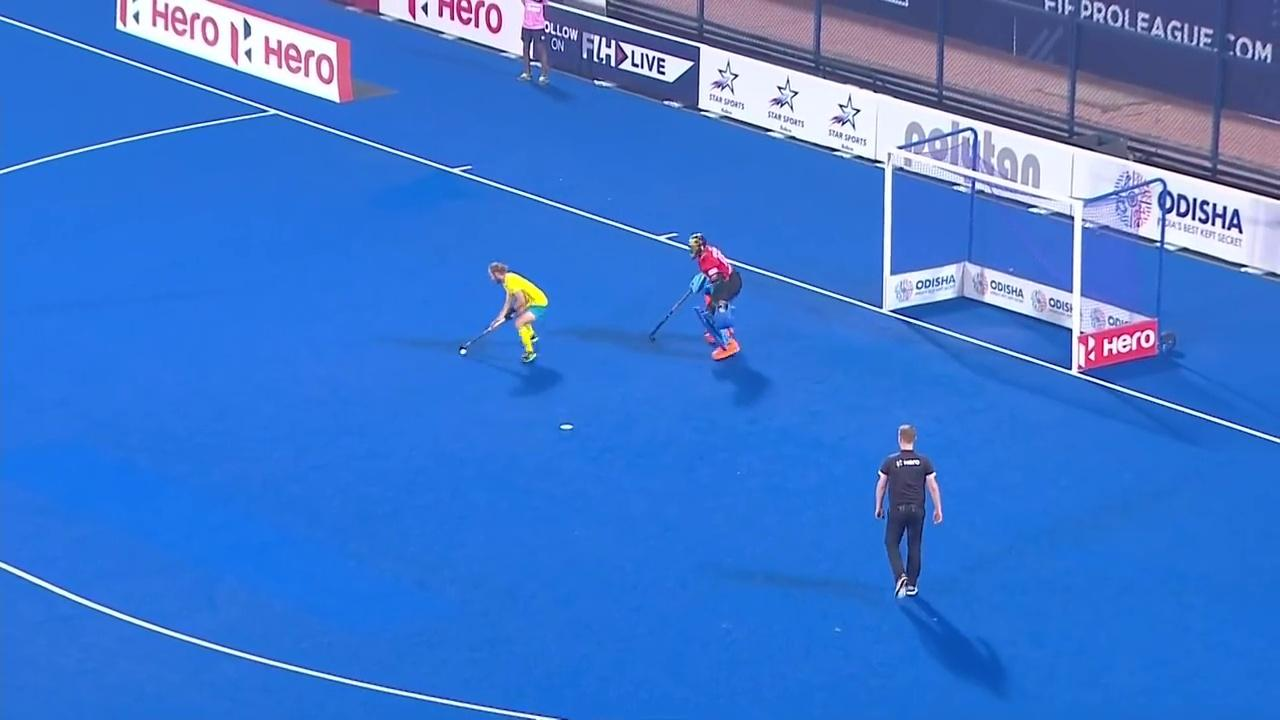ball: (453, 344, 472, 360)
